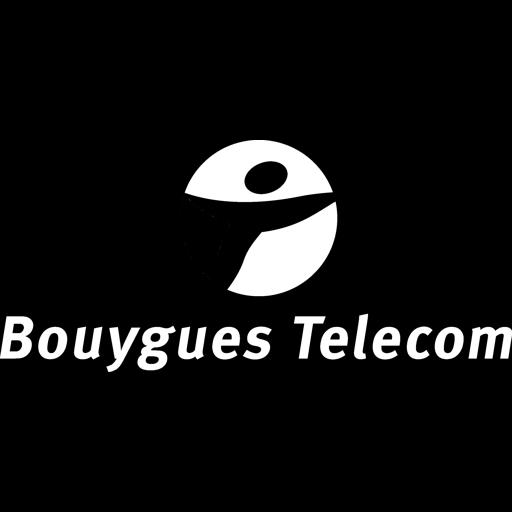Bouygues Telecom: (0, 140, 512, 372)
